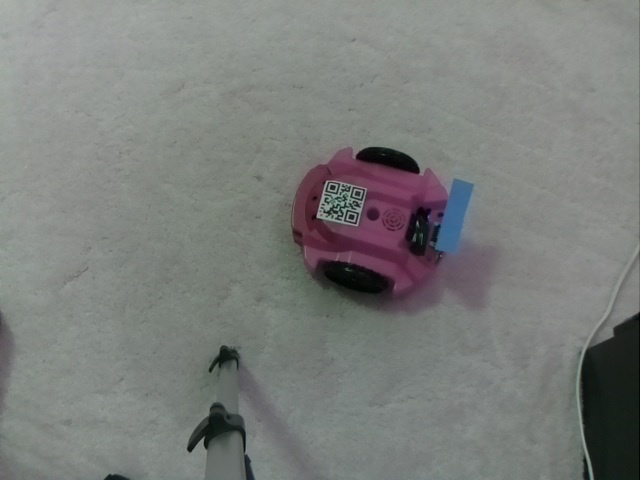chassis: (285, 142, 474, 302)
qr: (313, 171, 372, 236)
